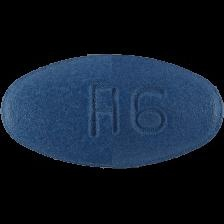43598-315: (0, 0, 224, 224)
